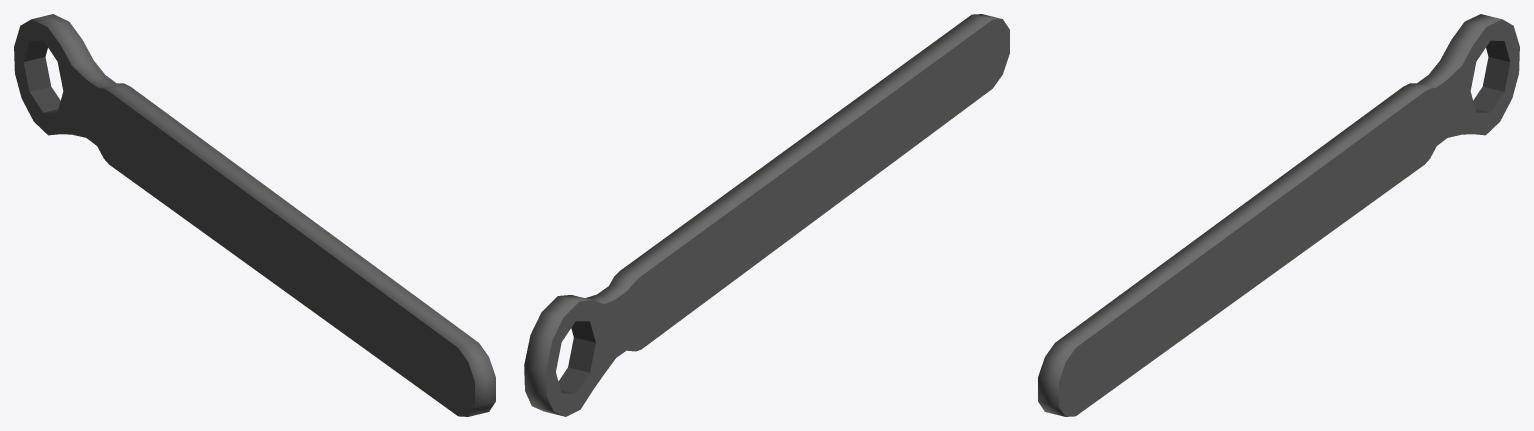
File: wrench2.fbx
3 renders of one model, left to right at view 1: azimuth 30°, elevation 25°; view 2: azimuth 150°, elevation 25°; view 3: azimuth 330°, elevation 25°, orthographic.
Visible parts, largest first — view 1: Cube; view 2: Cube; view 3: Cube.
Part boxes in pixels (bbox=[...]): Cube: bbox=[14, 14, 495, 416]; Cube: bbox=[524, 14, 1009, 416]; Cube: bbox=[1038, 14, 1519, 416].
Bounding box in the file's own units: 12.88 × 60.66 × 469.
